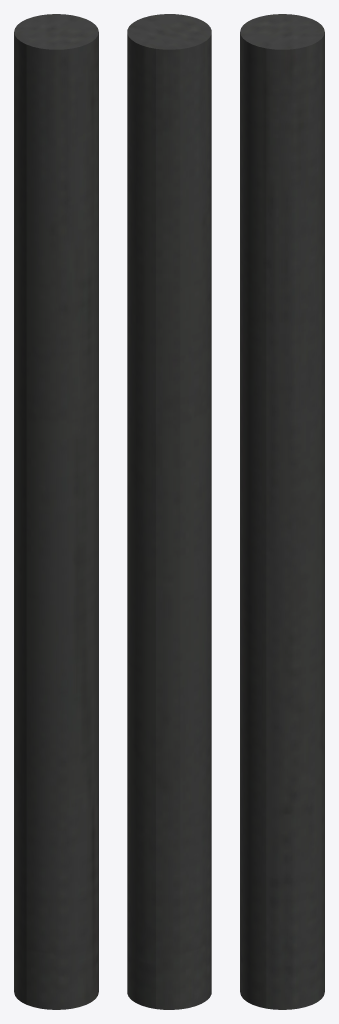
The model's file is frame__back_hinge_pin.glb.
3 renders of one model, left to right at view 1: azimuth 90°, elevation 25°; view 2: azimuth 150°, elevation 25°; view 3: azimuth 270°, elevation 25°, orthographic.
Visible parts, largest first — view 1: world; view 2: world; view 3: world.
Part boxes in pixels (x1,y1,x2,y2): world: [14, 14, 98, 1009]; world: [127, 14, 211, 1009]; world: [240, 14, 324, 1009].
Size of the model in its own units: 0.036 by 0.45 by 0.036.
1 material, 1 textured.
